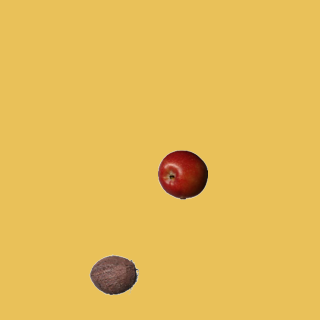Apple Braeburn: (157, 149, 207, 199)
Cocos: (88, 249, 138, 299)
